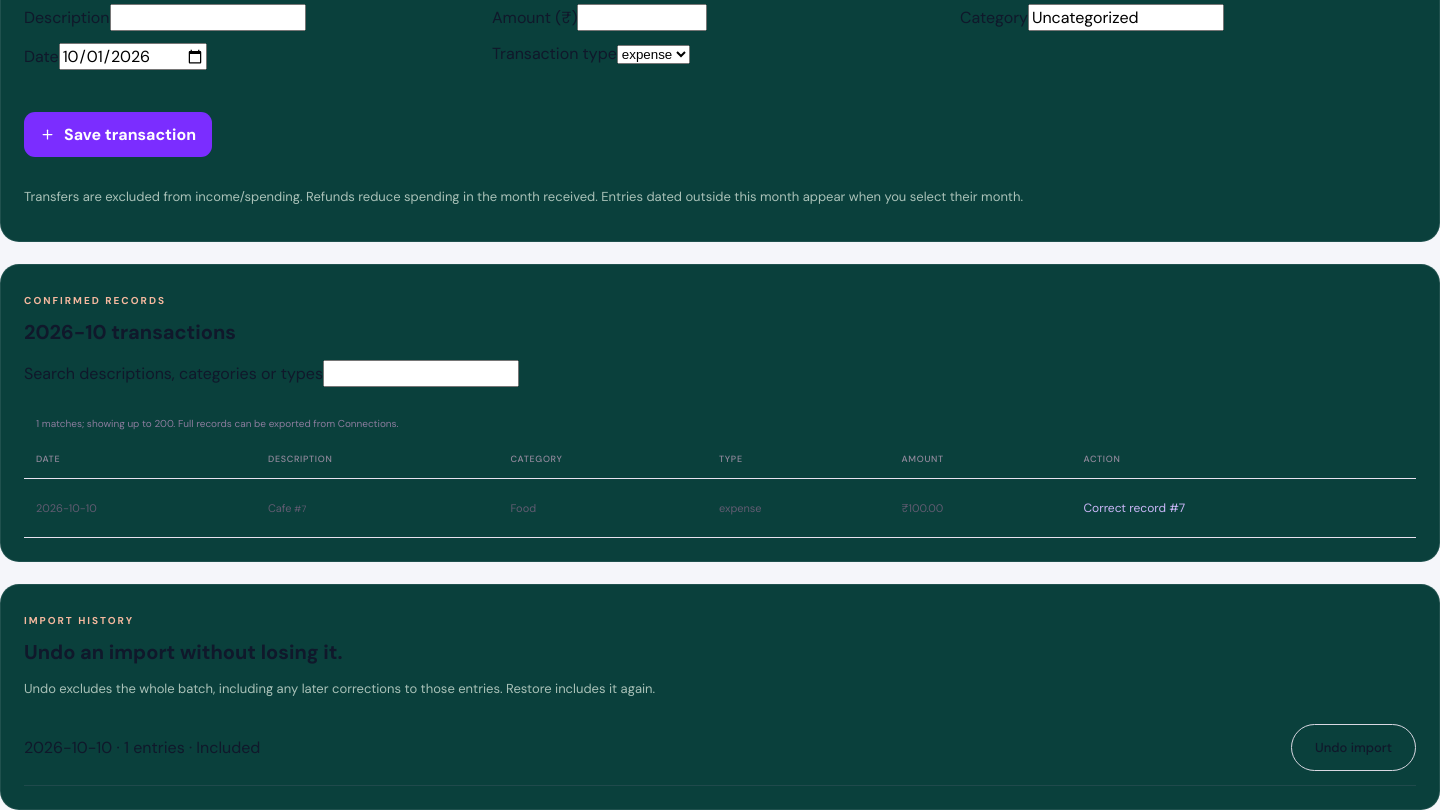
Test: undoes an import batch and exposes its reversible behavior
(page scrolled)
Click the button "Undo import".
click(1354, 748)  # box 1291,724 -> 1416,771
(page scrolled)
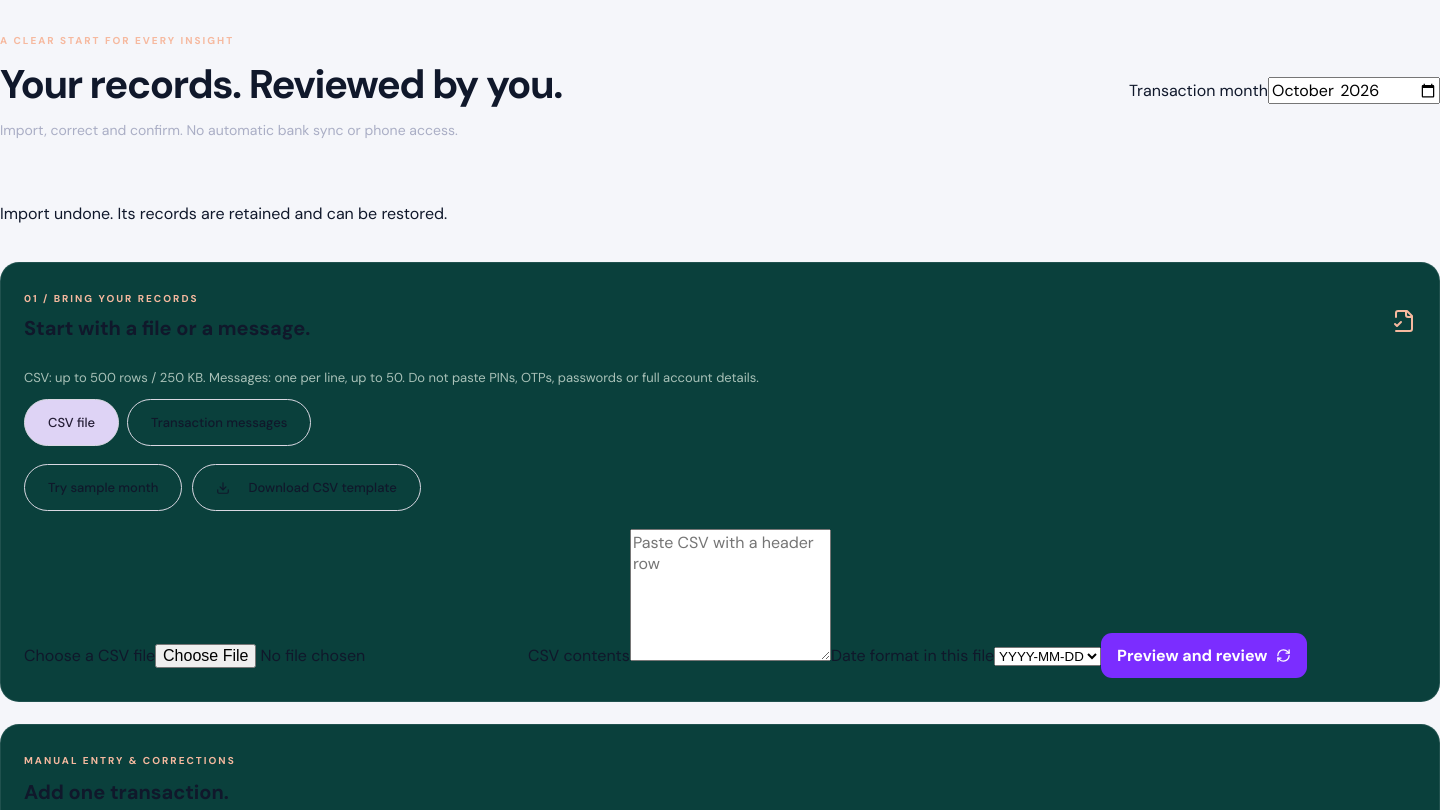
Result: the text "Import undone. Its records are retained and can be restored." is shown at 0,203 -> 447,224
